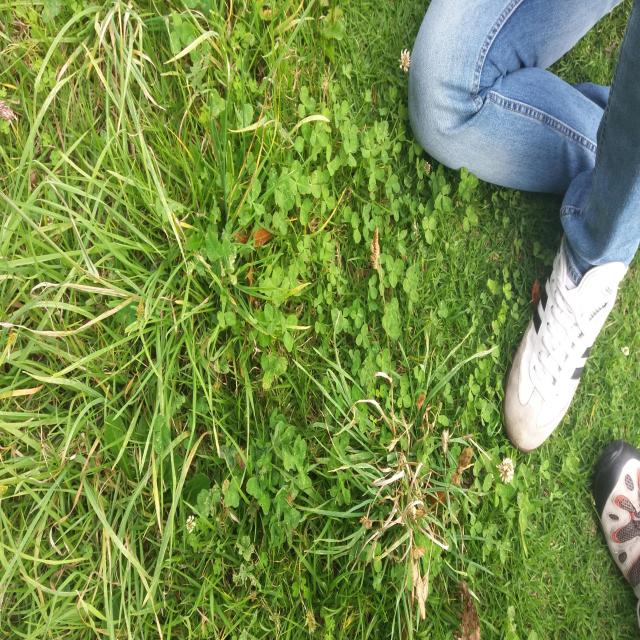Four Leaf Clover: (261, 352, 288, 389)
